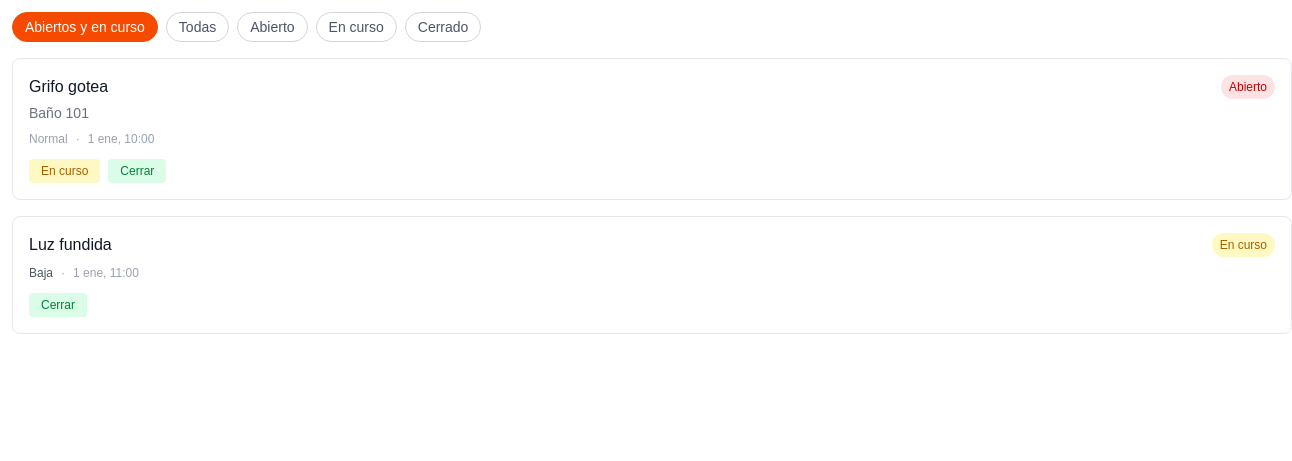
TicketList › el filtro «Todas» quita el filtro de estado y muestra todos
This screenshot has width=1292, height=461.
Expected: the heading "Grifo gotea" is shown, [29,75,108,99]
Click the button "Todas" at (198, 27), box [166,12,229,42]
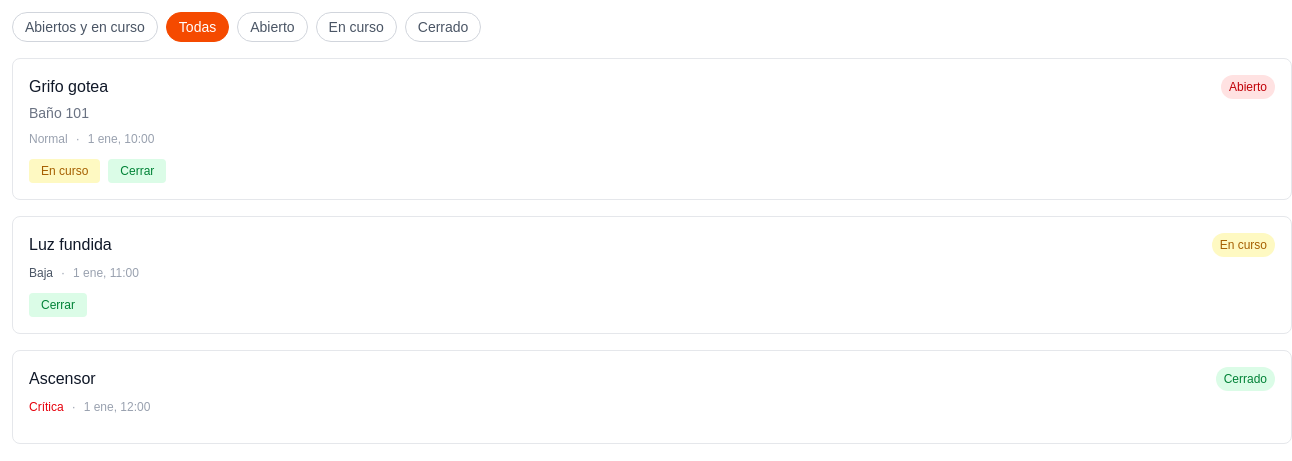
Expected: the heading "Luz fundida" is shown, [29,233,112,257]
Now the heading "Ascensor" is shown, box [29,367,96,391]
